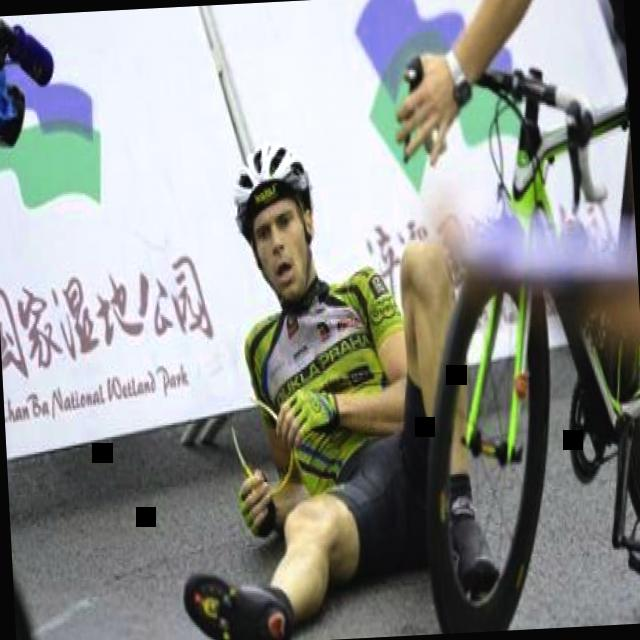Fall-Detected: (126, 97, 454, 640)
